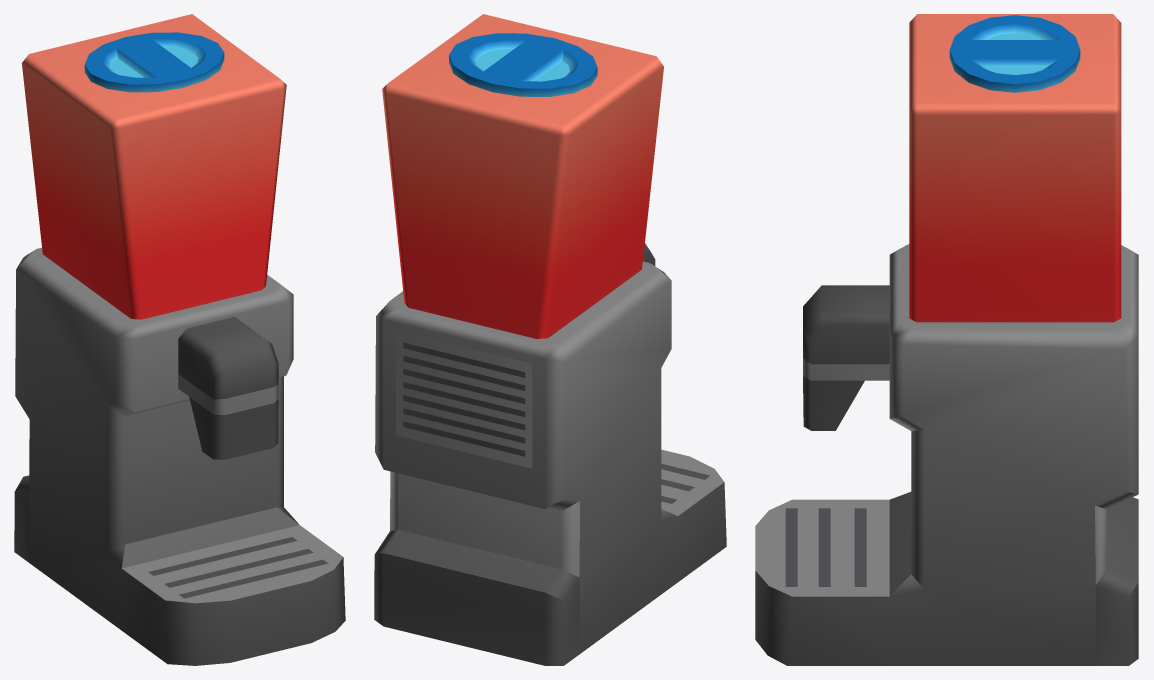
File: Station Strawberry Milkshake.fbx
3 views of the same model, side by side, from view 1: azimuth 30°, elevation 25°; view 2: azimuth 150°, elevation 25°; view 3: azimuth 270°, elevation 25° (orthographic). The views are drawn at different scales.
Parts seen in each view (by area): view 1: Station_Strawberry_Milkshake_Machine; view 2: Station_Strawberry_Milkshake_Machine; view 3: Station_Strawberry_Milkshake_Machine.
Boxes of the visible parts, x1,y1,x2,y2 form: Station_Strawberry_Milkshake_Machine: [14, 14, 345, 665]; Station_Strawberry_Milkshake_Machine: [374, 14, 726, 665]; Station_Strawberry_Milkshake_Machine: [755, 14, 1138, 665].
Bounding box in the file's own units: 97.28 × 266 × 163.
